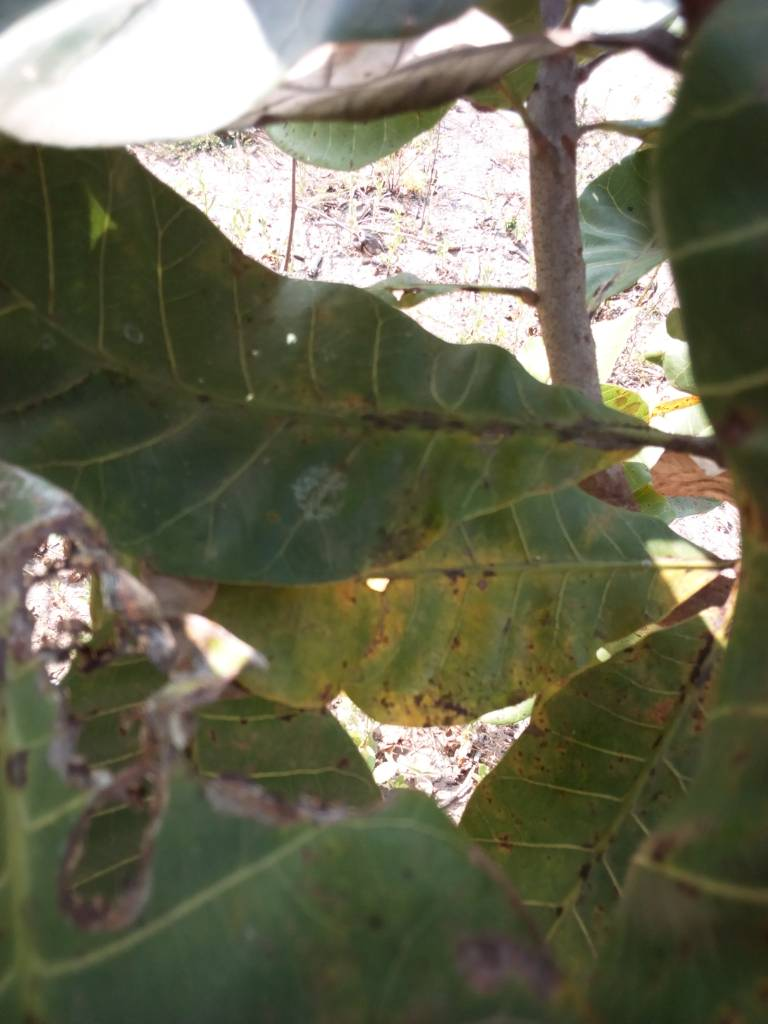Anthracnose: (1, 142, 704, 583), (193, 485, 693, 717)
